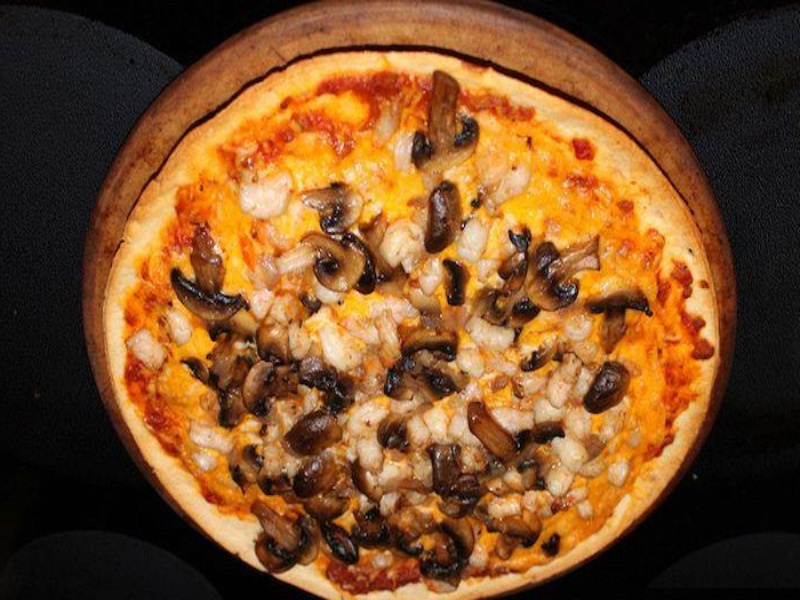champignon: (394, 65, 486, 168), (519, 235, 611, 315), (235, 498, 324, 576), (168, 244, 248, 330), (584, 278, 661, 361), (293, 230, 381, 301), (291, 178, 374, 237), (236, 359, 320, 416)
